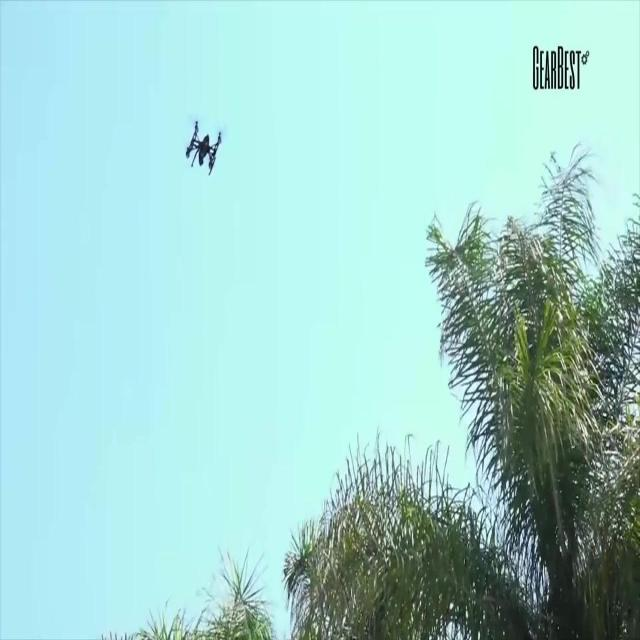drone: (184, 117, 223, 178)
